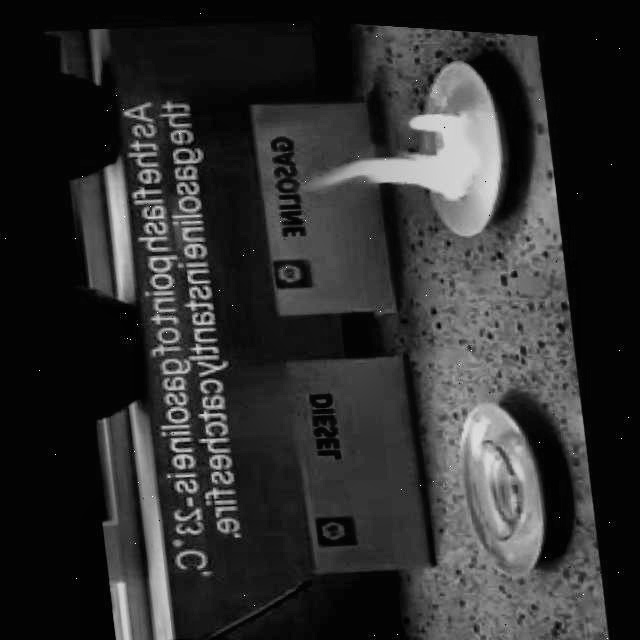Fire: (287, 89, 490, 218)
